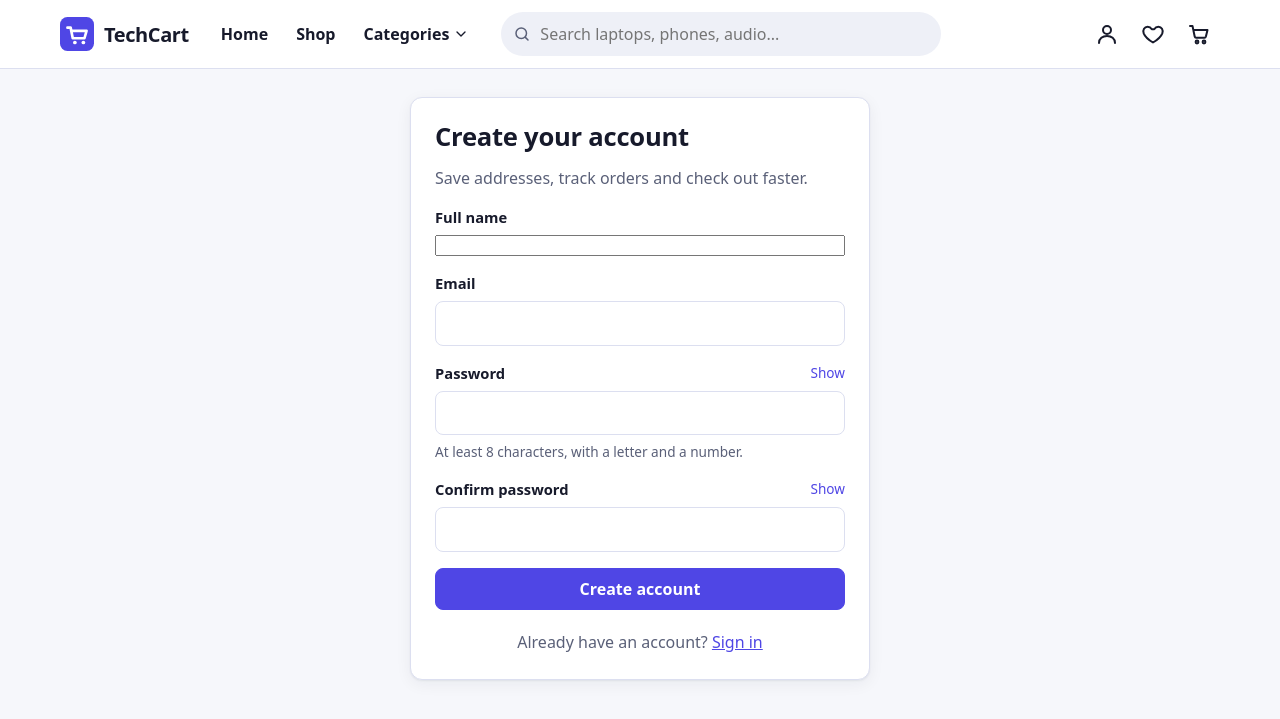
Test: adding a product › says listings are saved in this browser only
Step 1. Type "Ada Lovelace" into the field labelled "Full name" → [640, 246], box [435,235,845,256]
Step 2. Type "ada@example.com" into the field labelled "Email" → [640, 323], box [435,301,845,346]
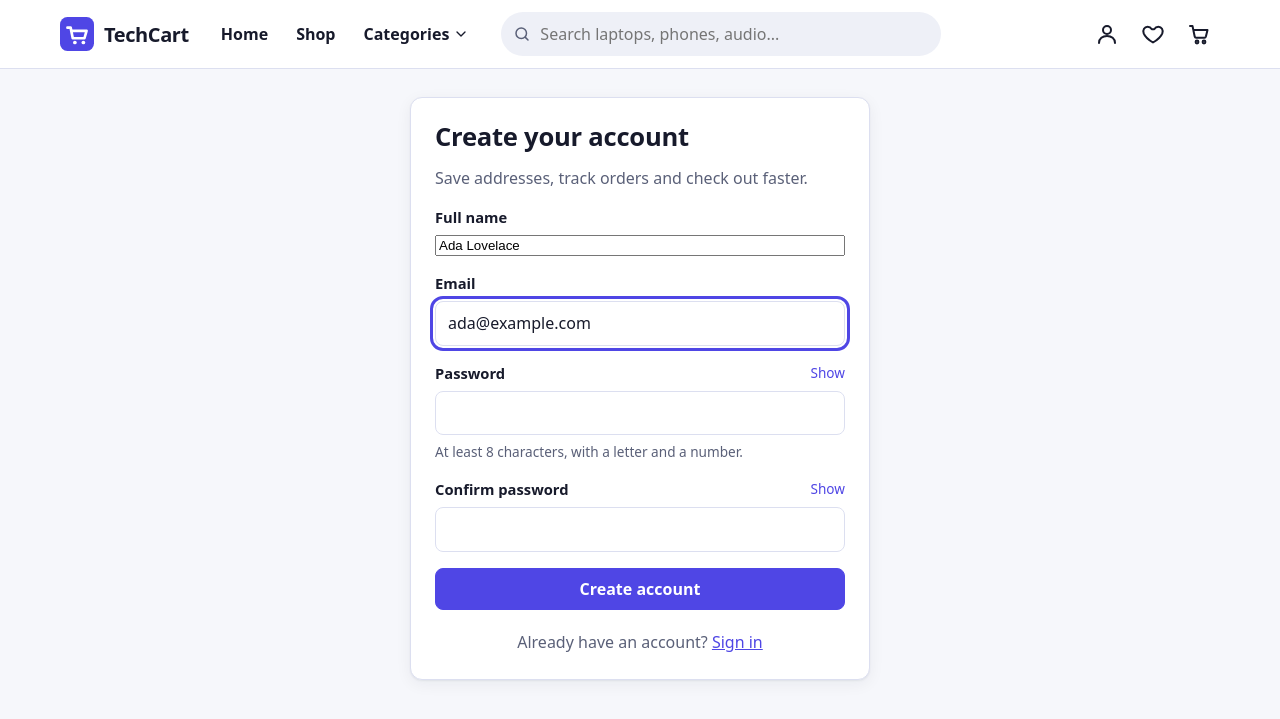
Step 3. Type "correct8horse" into the password field labelled "Password" → [640, 413], box [435,390,845,435]
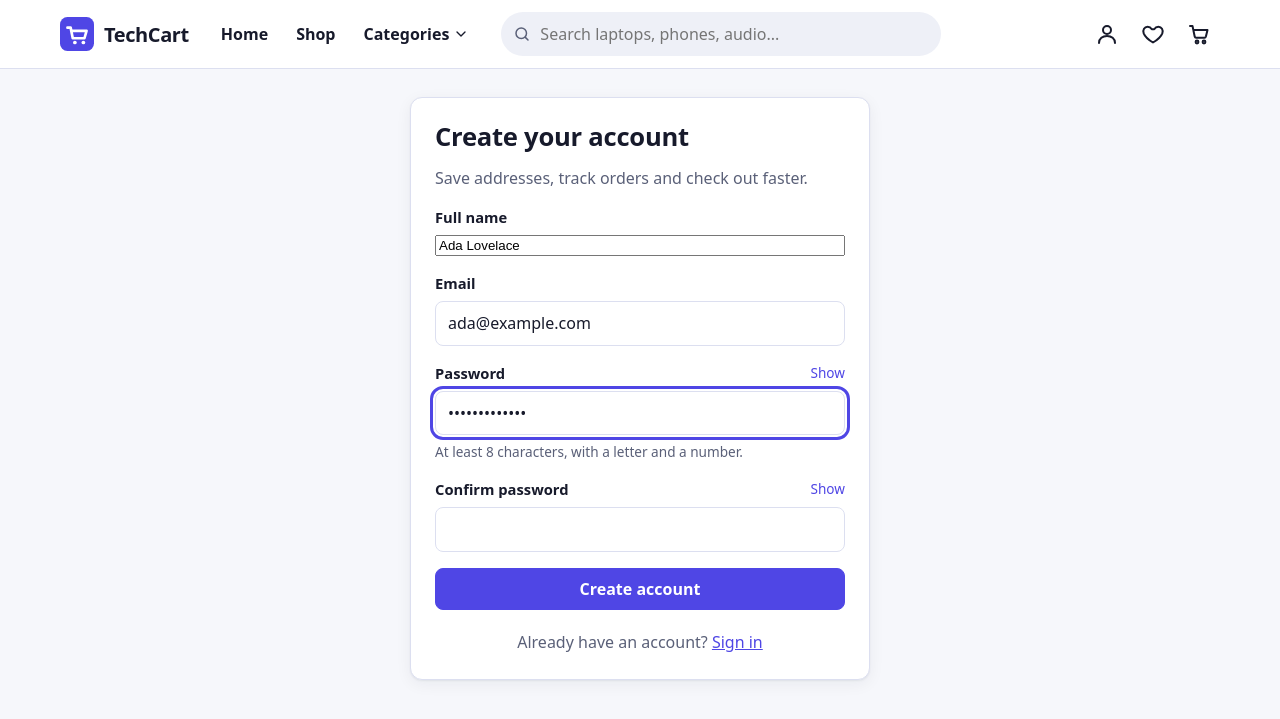
Step 4. Type "correct8horse" into the password field labelled "Confirm password" → [640, 530], box [435,507,845,552]
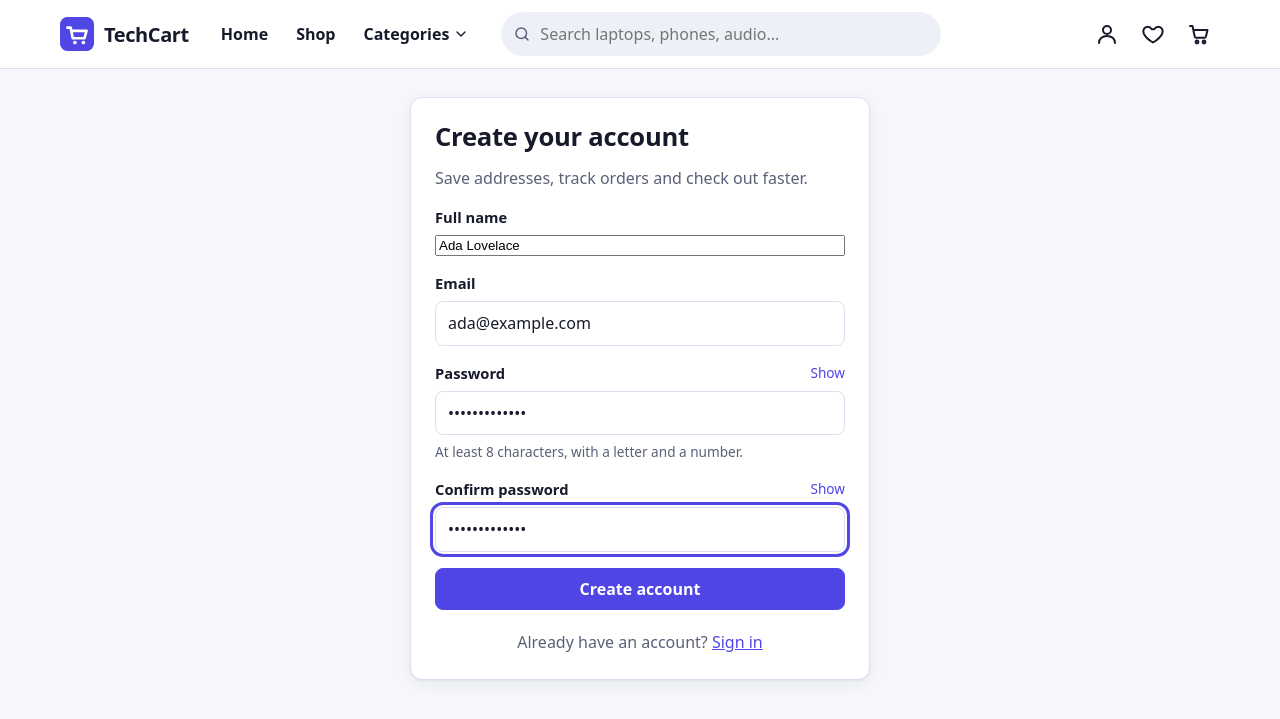
Step 5. Click the button "Create account" → [640, 589], box [435,568,845,610]
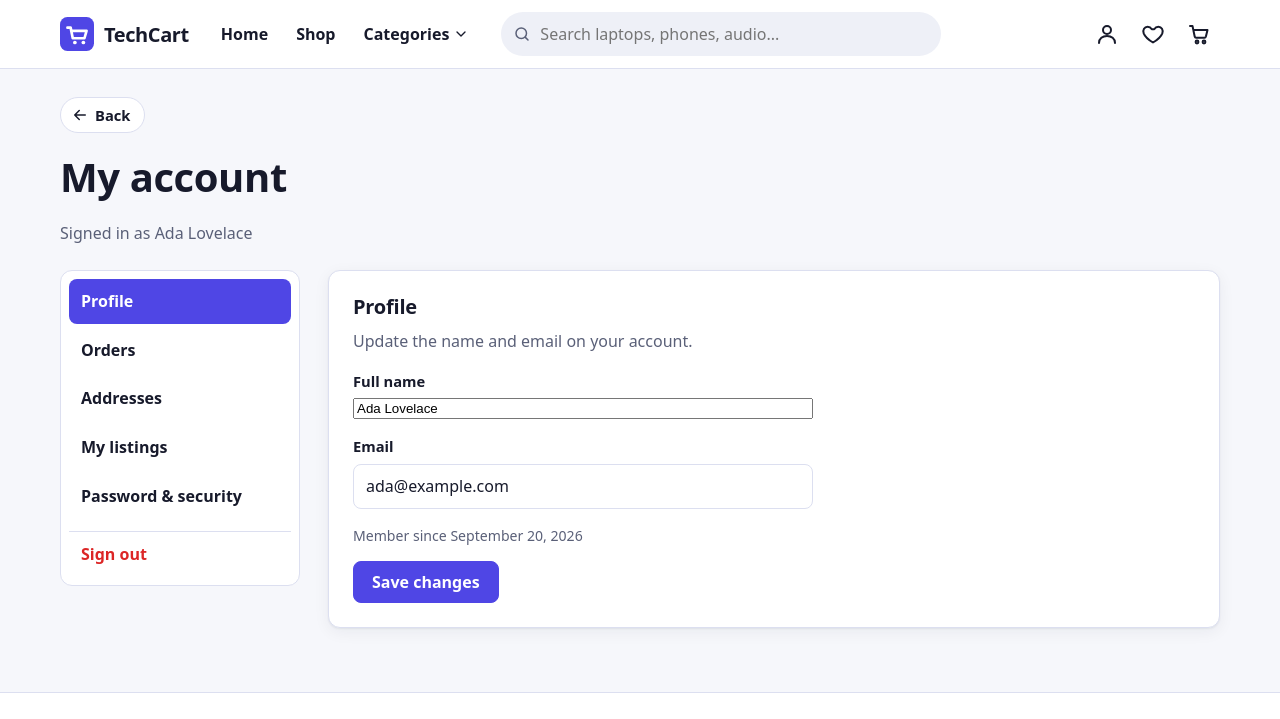
Check: the heading "My account" is shown, box [60,149,287,204]
Step 6. Click the link "My listings" → [124, 447], box [81,436,168,458]
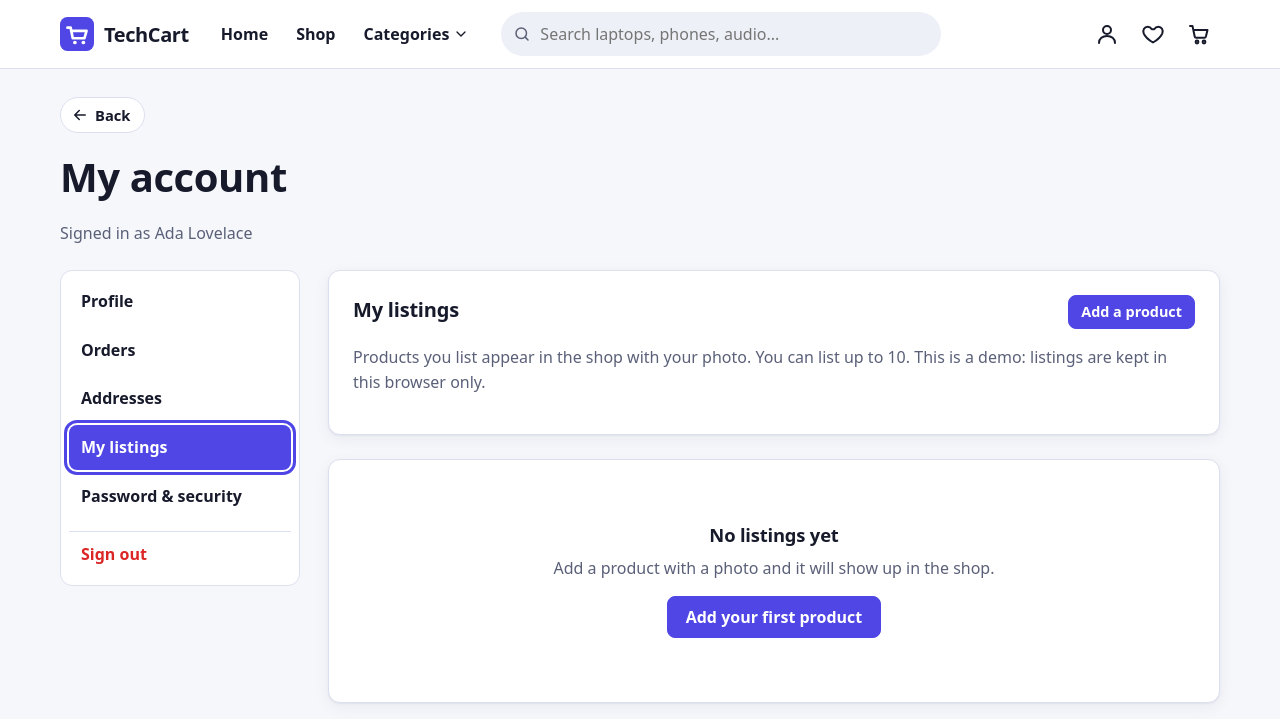
Step 7. Click the link "Add a product" → [1132, 312], box [1068,295,1195,329]
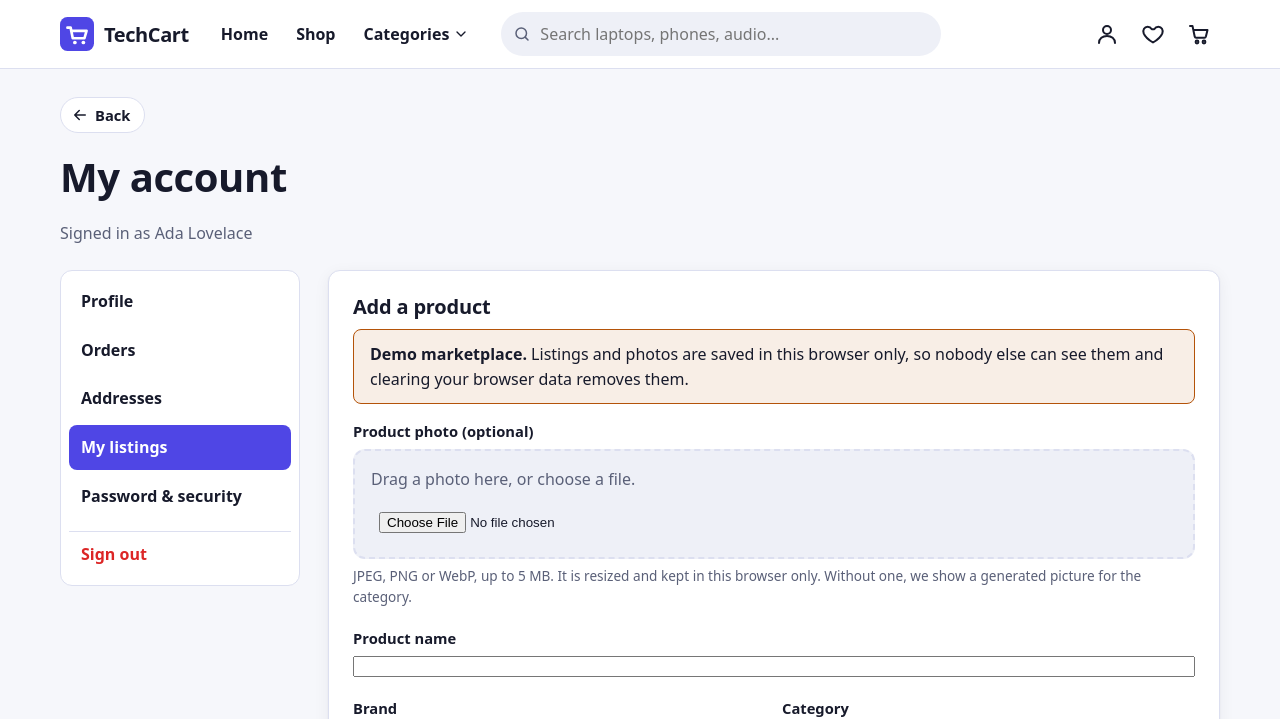
Check: the element that starts with "Demo marketplace." shows "saved in this browser only", box [370,343,1163,390]
